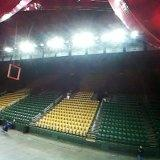Orange_Square_GShape: (7, 64, 22, 80)
